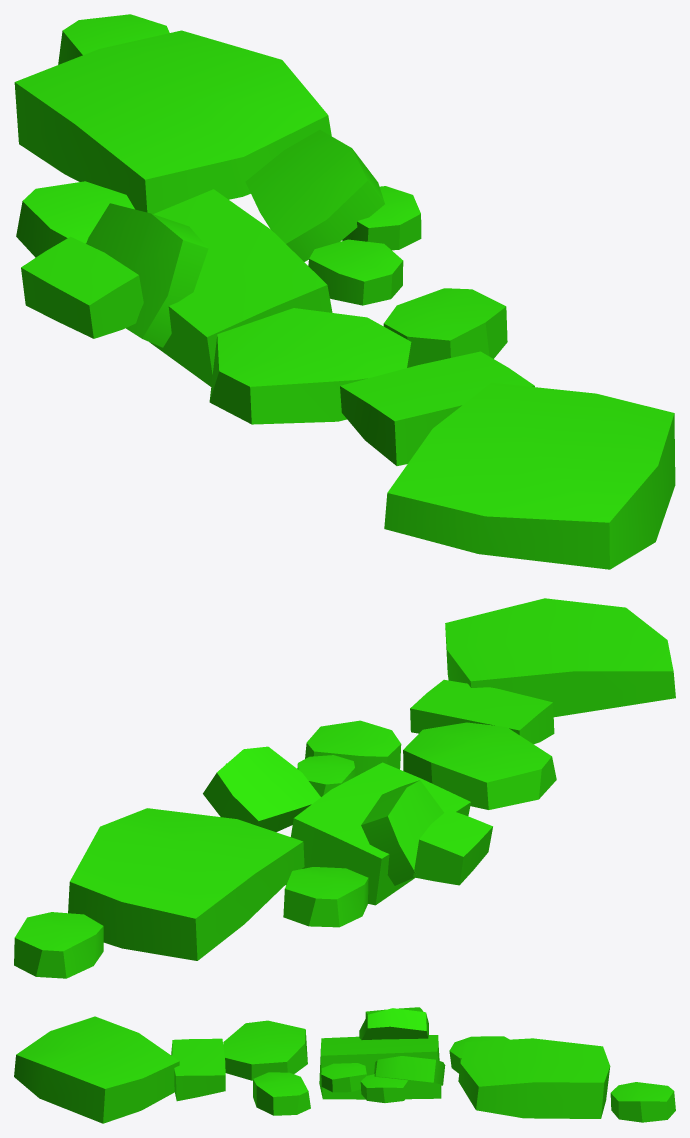
Rendered from Debris_Stone_03B.fbx.
3 views of the same model, one above another, from view 1: azimuth 30°, elevation 25°; view 2: azimuth 150°, elevation 25°; view 3: azimuth 270°, elevation 25° (orthographic). The views are drawn at different scales.
Visible parts, largest first — view 1: Debris_Stone_03B; view 2: Debris_Stone_03B; view 3: Debris_Stone_03B.
Part boxes in pixels (box(x1,y1,x2,y2)): Debris_Stone_03B: box(14, 14, 675, 569); Debris_Stone_03B: box(14, 598, 675, 978); Debris_Stone_03B: box(14, 1007, 675, 1123).
Bounding box in the file's own units: 96.11 × 31.37 × 288.
